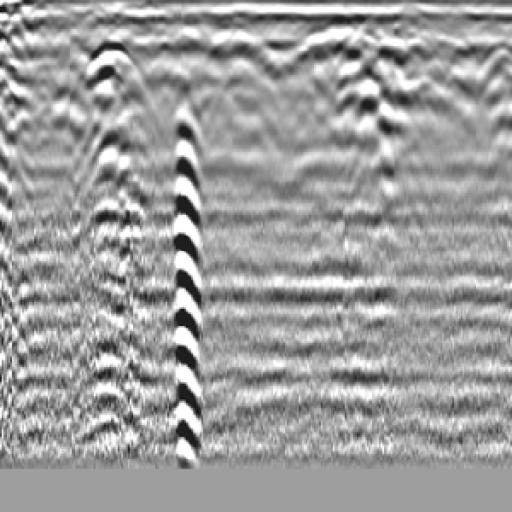metalic: (70, 35, 159, 245)
